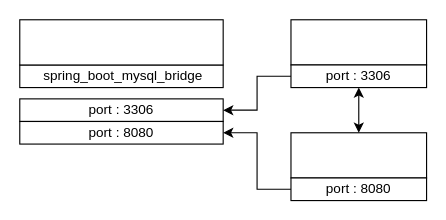
This 446x220 diagram has some shape labels left out. Here are the shapes that lost their labels. From the top down, the box of each, then its label:
(19, 19, 223, 65): docker network bridge
(290, 19, 427, 65): spring-boot :
(290, 132, 427, 178): mysql
